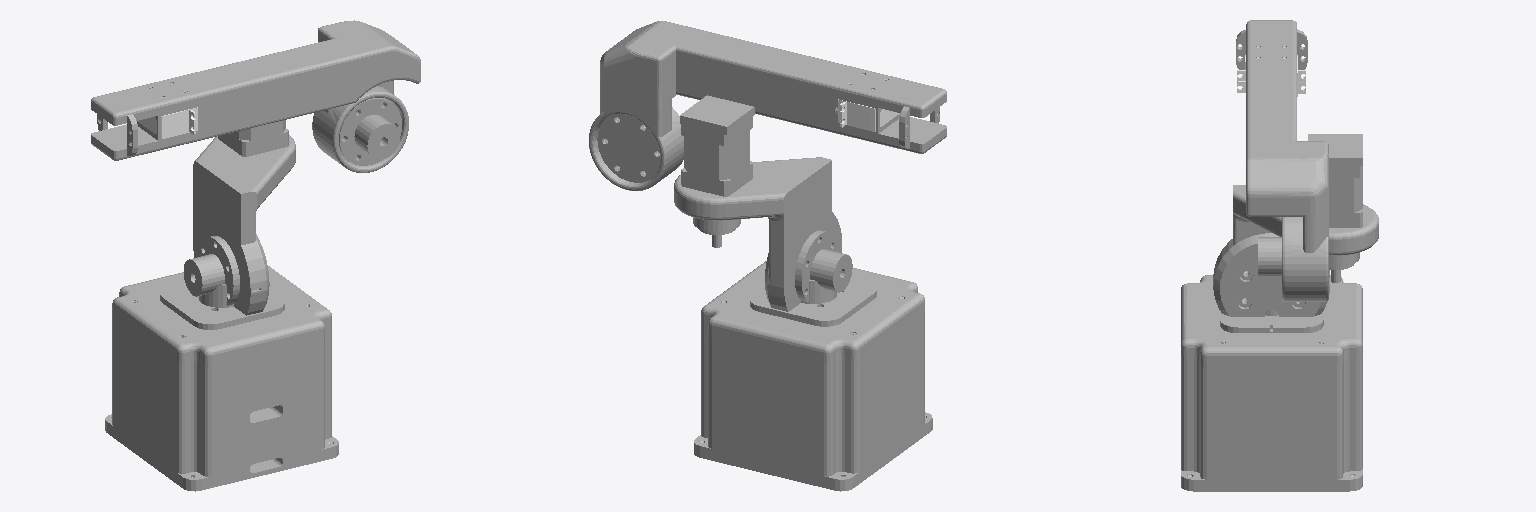
The robot description file, URDF, robot "FYP_URDF":
<?xml version="1.0" encoding="utf-8"?>
<!-- This URDF was automatically created by SolidWorks to URDF Exporter! Originally created by Stephen Brawner (brawner@gmail.com) 
     Commit Version: 1.6.0-4-g7f85cfe  Build Version: 1.6.7995.38578
     For more information, please see http://wiki.ros.org/sw_urdf_exporter -->
<robot
  name="FYP_URDF">
  <link
    name="base_link">
    <inertial>
      <origin
        xyz="0.54029 0.86322 1.3008"
        rpy="0 0 0" />
      <mass
        value="2.4713" />
      <inertia
        ixx="0.0039304"
        ixy="1.2845E-08"
        ixz="-2.0732E-09"
        iyy="0.0055209"
        iyz="-1.1694E-05"
        izz="0.0039592" />
    </inertial>
    <visual>
      <origin
        xyz="0 0 0"
        rpy="0 0 0" />
      <geometry>
        <mesh
          filename="package://surgical_arm_bringup/meshes/base_link.STL" />
      </geometry>
      <material
        name="">
        <color
          rgba="0.75294 0.75294 0.75294 1" />
      </material>
    </visual>
    <collision>
      <origin
        xyz="0 0 0"
        rpy="0 0 0" />
      <geometry>
        <mesh
          filename="package://surgical_arm_bringup/meshes/base_link.STL" />
      </geometry>
    </collision>
  </link>
  <link
    name="link_1">
    <inertial>
      <origin
        xyz="-0.071917 0.068679 -0.036769"
        rpy="0 0 0" />
      <mass
        value="1.5294" />
      <inertia
        ixx="0.00060901"
        ixy="9.9348E-05"
        ixz="-0.00010589"
        iyy="0.00090612"
        iyz="7.505E-05"
        izz="0.00080552" />
    </inertial>
    <visual>
      <origin
        xyz="0 0 0"
        rpy="0 0 0" />
      <geometry>
        <mesh
          filename="package://surgical_arm_bringup/meshes/link_1.STL" />
      </geometry>
      <material
        name="">
        <color
          rgba="0.75294 0.75294 0.75294 1" />
      </material>
    </visual>
    <collision>
      <origin
        xyz="0 0 0"
        rpy="0 0 0" />
      <geometry>
        <mesh
          filename="package://surgical_arm_bringup/meshes/link_1.STL" />
      </geometry>
    </collision>
  </link>
  <joint
    name="waist_joint"
    type="revolute">
    <origin
      xyz="0.54029 -1.301 0.93598"
      rpy="1.5708 0 1.5708" />
    <parent
      link="base_link" />
    <child
      link="link_1" />
    <axis
      xyz="0 1 0" />
    <limit
      lower="-1.5713"
      upper="1.5713"
      effort="46"
      velocity="1.5713" />
  </joint>
  <link
    name="link_2">
    <inertial>
      <origin
        xyz="-0.1351 -2.5762E-05 0.035647"
        rpy="0 0 0" />
      <mass
        value="1.7967" />
      <inertia
        ixx="0.00064471"
        ixy="-6.177E-06"
        ixz="5.9143E-05"
        iyy="0.0034332"
        iyz="2.9089E-07"
        izz="0.0036498" />
    </inertial>
    <visual>
      <origin
        xyz="0 0 0"
        rpy="0 0 0" />
      <geometry>
        <mesh
          filename="package://surgical_arm_bringup/meshes/link_2.STL" />
      </geometry>
      <material
        name="">
        <color
          rgba="0.75294 0.75294 0.75294 1" />
      </material>
    </visual>
    <collision>
      <origin
        xyz="0 0 0"
        rpy="0 0 0" />
      <geometry>
        <mesh
          filename="package://surgical_arm_bringup/meshes/link_2.STL" />
      </geometry>
    </collision>
  </link>
  <joint
    name="shoulder_joint"
    type="revolute">
    <origin
      xyz="0 0.0834 -0.049228"
      rpy="3.1416 1.5708 0" />
    <parent
      link="link_1" />
    <child
      link="link_2" />
    <axis
      xyz="0 0 1" />
    <limit
      lower="0"
      upper="3.1426"
      effort="9.88"
      velocity="1.5713" />
  </joint>
  <link
    name="link_3">
    <inertial>
      <origin
        xyz="-0.039044 -0.056714 -0.0078089"
        rpy="0 0 0" />
      <mass
        value="0.76472" />
      <inertia
        ixx="0.0037211"
        ixy="-0.00049084"
        ixz="0.00012375"
        iyy="0.00062282"
        iyz="0.0003546"
        izz="0.0040029" />
    </inertial>
    <visual>
      <origin
        xyz="0 0 0"
        rpy="0 0 0" />
      <geometry>
        <mesh
          filename="package://surgical_arm_bringup/meshes/link_3.STL" />
      </geometry>
      <material
        name="">
        <color
          rgba="0.75294 0.75294 0.75294 1" />
      </material>
    </visual>
    <collision>
      <origin
        xyz="0 0 0"
        rpy="0 0 0" />
      <geometry>
        <mesh
          filename="package://surgical_arm_bringup/meshes/link_3.STL" />
      </geometry>
    </collision>
  </link>
  <joint
    name="elbow_joint"
    type="revolute">
    <origin
      xyz="-0.19 0 0"
      rpy="0 0 1.5708" />
    <parent
      link="link_2" />
    <child
      link="link_3" />
    <axis
      xyz="0 0 1" />
    <limit
      lower="-3.1426"
      upper="0"
      effort="7.28"
      velocity="1.5713" />
  </joint>
  <link
    name="end_effector">
    <inertial>
      <origin
        xyz="0.020183 0.019522 3.9659E-10"
        rpy="0 0 0" />
      <mass
        value="0.039757" />
      <inertia
        ixx="5.8694E-06"
        ixy="3.0563E-08"
        ixz="-6.1291E-14"
        iyy="6.6558E-06"
        iyz="-3.1348E-13"
        izz="9.9744E-06" />
    </inertial>
    <visual>
      <origin
        xyz="0 0 0"
        rpy="0 0 0" />
      <geometry>
        <mesh
          filename="package://surgical_arm_bringup/meshes/end_effector.STL" />
      </geometry>
      <material
        name="">
        <color
          rgba="1 1 1 1" />
      </material>
    </visual>
    <collision>
      <origin
        xyz="0 0 0"
        rpy="0 0 0" />
      <geometry>
        <mesh
          filename="package://surgical_arm_bringup/meshes/end_effector.STL" />
      </geometry>
    </collision>
  </link>
  <joint
    name="end_effector_joint"
    type="fixed">
    <origin
      xyz="-0.06427 -0.21 -0.020349"
      rpy="0 -1.5708 0" />
    <parent
      link="link_3" />
    <child
      link="end_effector" />
    <axis
      xyz="0 0 0" />
  </joint>
  <ros2_control name="GazeboSimSystem" type="system">
    <hardware>
      <plugin>gz_ros2_control/GazeboSimSystem</plugin>
    </hardware>
    
    <joint name="waist_joint">
      <command_interface name="effort"/>
      <state_interface name="position"/>
      <state_interface name="velocity"/>
      <state_interface name="effort"/>
    </joint>

    <joint name="shoulder_joint">
      <command_interface name="effort"/>
      <state_interface name="position"/>
      <state_interface name="velocity"/>
      <state_interface name="effort"/>
    </joint>

    <joint name="elbow_joint">
      <command_interface name="effort"/>
      <state_interface name="position"/>
      <state_interface name="velocity"/>
      <state_interface name="effort"/>
    </joint>
  </ros2_control>

  <gazebo>
    <plugin filename="gz_ros2_control-system" name="gz_ros2_control::GazeboSimROS2ControlPlugin">
      <parameters>/home/foochiaern/ros2_ws/install/surgical_arm_bringup/share/surgical_arm_bringup/config/controllers.yaml</parameters>
    </plugin>
  </gazebo>
</robot>

--- Facts derived from the render (not from the file) ---
The picture shows the robot from 3 angles, left to right: view 1: azimuth 30°, elevation 25°; view 2: azimuth 150°, elevation 25°; view 3: azimuth 270°, elevation 25°; orthographic projection.
Robot: FYP_URDF — 5 links, 4 joints (3 revolute, 1 fixed); root link base_link; default pose: every joint at zero.
Links seen in each view (by area): view 1: base_link, link_3, link_1, end_effector; view 2: base_link, link_3, link_1, end_effector; view 3: base_link, link_3, link_1.
Boxes of the visible links, x1,y1,x2,y2 form: base_link: [105, 266, 338, 491]; link_3: [91, 20, 420, 172]; link_1: [184, 120, 295, 315]; end_effector: [138, 107, 197, 138]; base_link: [694, 261, 932, 491]; link_3: [589, 21, 946, 190]; link_1: [674, 95, 852, 311]; end_effector: [835, 99, 899, 131]; base_link: [1181, 275, 1362, 491]; link_3: [1236, 20, 1328, 301]; link_1: [1213, 134, 1378, 316].
Bounding box of the posed robot: 0.2845 × 0.1526 × 0.3169 m (x, y, z).
4 mesh visuals loaded from 5 distinct referenced files (4 binary STL); not drawn: 1 (reference not matched to a file when rendering).
